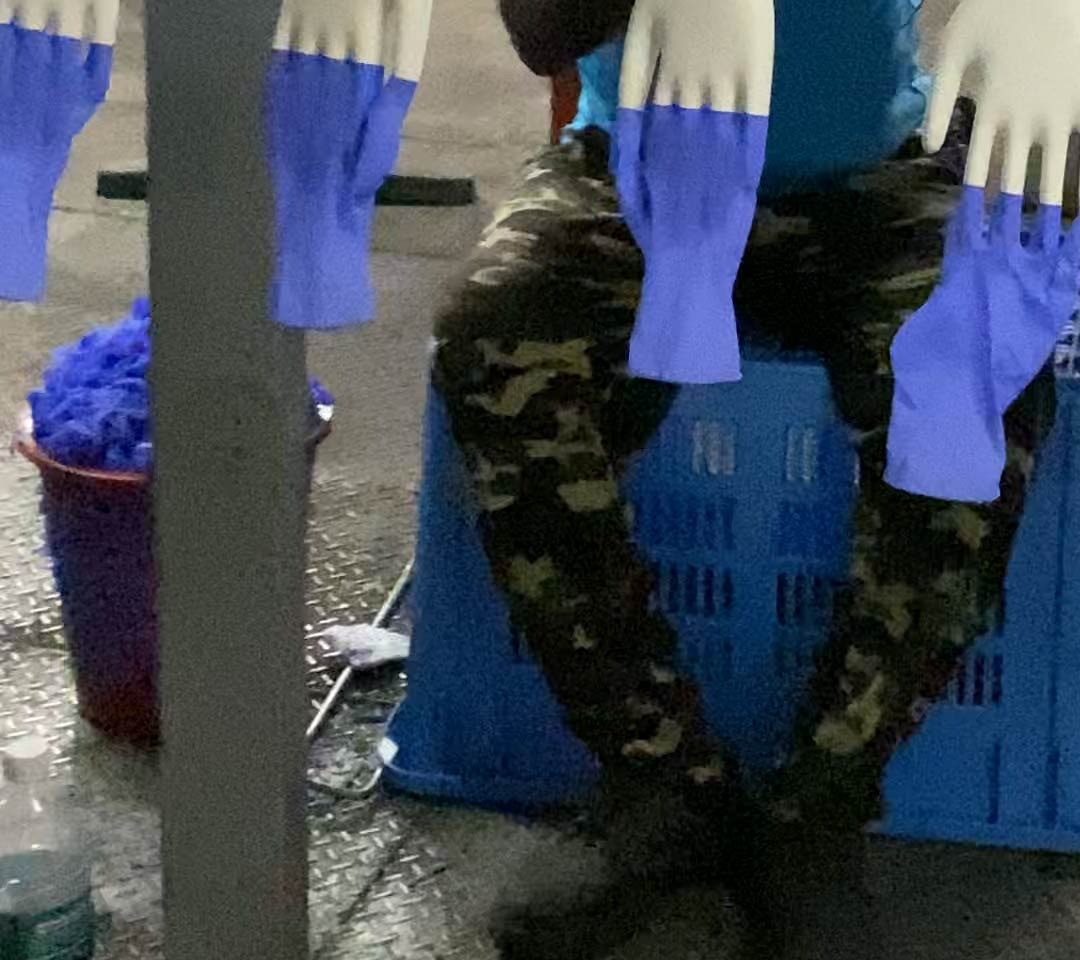glove: (884, 181, 1080, 508), (606, 96, 769, 389), (260, 44, 416, 335), (1, 18, 113, 305)
